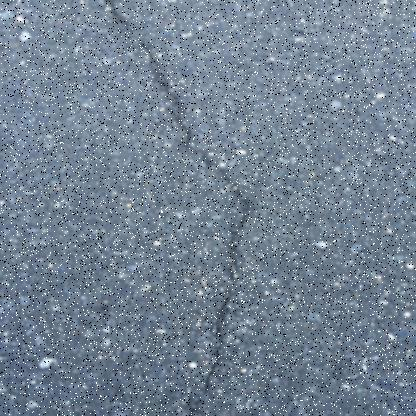Cracks: (102, 0, 259, 415)
